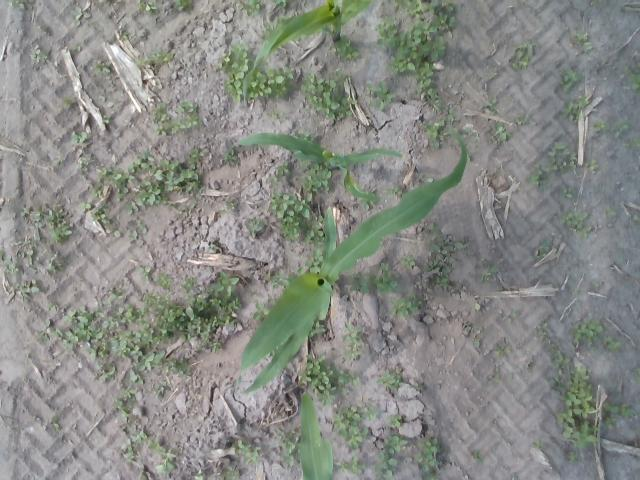Maize: (236, 124, 469, 393), (243, 0, 372, 104), (225, 132, 405, 202), (299, 392, 334, 480)
Weeds: (34, 265, 243, 424), (76, 147, 202, 239), (552, 361, 637, 464), (377, 0, 458, 108), (0, 199, 77, 310), (298, 352, 365, 406), (528, 141, 599, 188), (426, 221, 474, 290), (272, 189, 324, 247), (302, 68, 359, 120), (329, 402, 377, 449), (216, 44, 250, 106), (150, 100, 202, 138), (370, 432, 410, 480), (536, 322, 571, 372), (251, 67, 293, 99), (301, 162, 332, 205), (416, 435, 445, 479), (571, 318, 606, 354), (388, 290, 426, 320), (342, 320, 368, 362), (120, 426, 150, 462), (148, 440, 178, 475), (278, 428, 301, 469), (512, 38, 538, 74), (563, 212, 596, 240), (334, 35, 365, 63), (374, 262, 399, 296), (134, 49, 174, 70), (568, 28, 595, 58), (333, 456, 369, 478), (562, 95, 592, 120), (234, 440, 265, 464), (377, 366, 404, 392), (462, 320, 486, 349), (558, 66, 582, 94), (423, 120, 444, 152), (243, 215, 270, 239), (348, 269, 372, 296), (486, 119, 512, 143), (264, 268, 292, 289), (266, 161, 288, 187), (621, 64, 640, 93), (480, 258, 500, 285), (69, 5, 92, 28), (298, 250, 322, 272), (532, 236, 552, 262), (26, 44, 49, 66), (240, 0, 264, 18), (218, 199, 240, 218), (491, 342, 514, 359), (91, 59, 115, 75), (614, 118, 632, 139), (136, 0, 160, 15), (70, 131, 91, 148), (385, 412, 406, 429), (252, 299, 268, 321), (398, 253, 418, 270), (620, 134, 640, 150), (590, 118, 610, 134), (222, 464, 242, 480), (225, 150, 240, 171), (473, 294, 488, 315), (9, 0, 39, 10), (173, 0, 196, 13), (408, 376, 424, 394), (604, 334, 620, 351), (292, 131, 318, 141), (486, 98, 502, 114), (517, 114, 537, 126), (502, 309, 518, 324), (387, 184, 403, 198), (274, 0, 294, 11), (530, 439, 546, 452), (446, 106, 456, 126), (562, 188, 576, 202), (525, 356, 535, 374), (488, 374, 499, 390), (191, 470, 207, 480), (48, 414, 62, 425), (62, 96, 72, 111), (268, 292, 280, 304), (470, 450, 483, 461), (590, 282, 600, 296), (102, 114, 114, 125), (360, 199, 372, 210), (602, 208, 616, 217), (34, 21, 46, 31), (268, 110, 280, 120), (120, 31, 128, 44), (74, 44, 84, 54), (98, 94, 109, 103), (209, 244, 219, 252), (488, 72, 498, 80), (634, 214, 640, 226), (572, 288, 580, 295), (508, 374, 514, 382)
